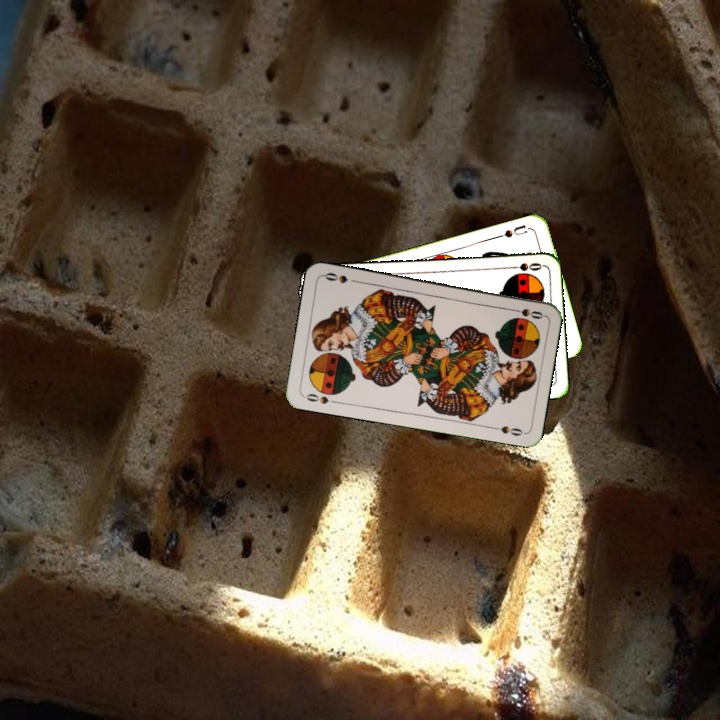SO: (505, 304, 546, 321), (302, 389, 340, 407), (504, 259, 544, 274)
SU: (494, 221, 534, 241)
